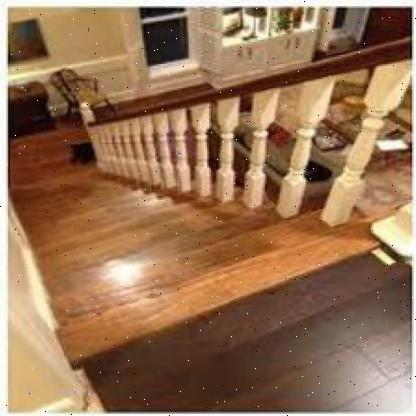stair_down: (47, 216, 295, 340)
